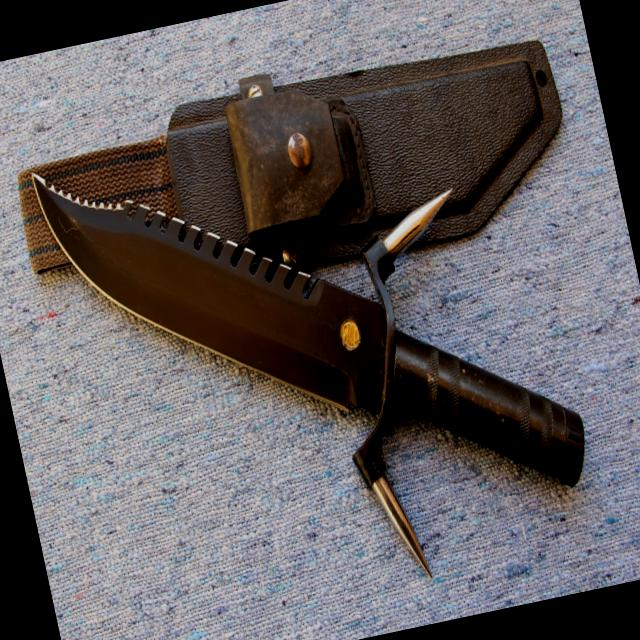knife: (22, 101, 388, 459)
